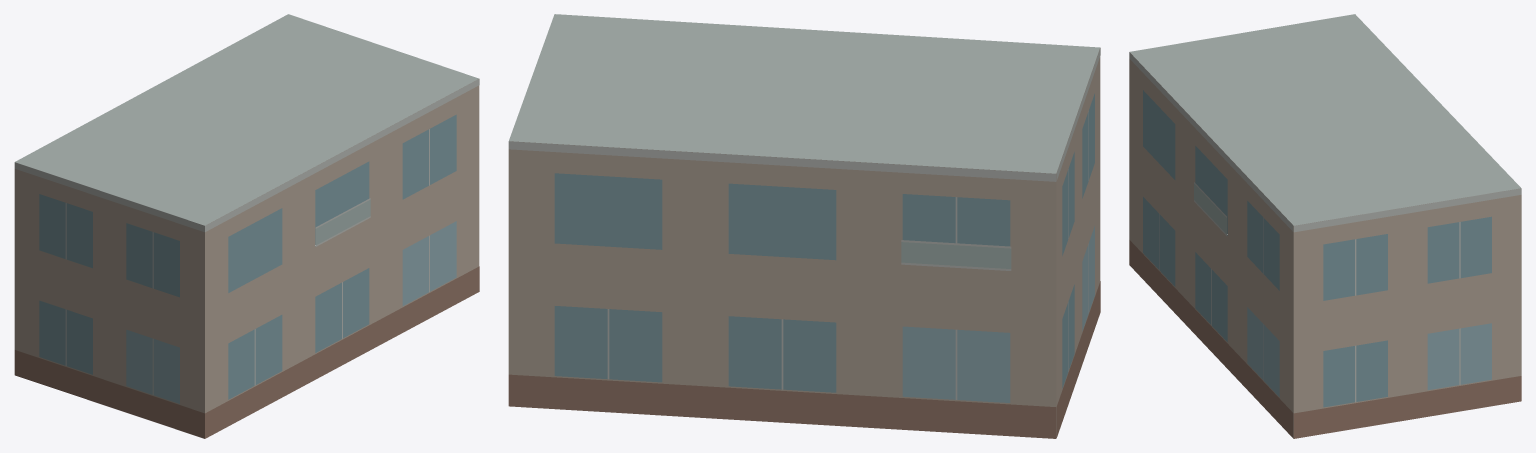
The model's file is survey-upis-32851306.glb.
The picture shows the model from 3 angles, left to right: view 1: azimuth 30°, elevation 25°; view 2: azimuth 150°, elevation 25°; view 3: azimuth 270°, elevation 25°; orthographic projection. The views are drawn at different scales.
Parts seen in each view (by area): view 1: survey-upis-32851306.tmp; view 2: survey-upis-32851306.tmp; view 3: survey-upis-32851306.tmp.
Boxes of the visible parts, x1,y1,x2,y2 form: survey-upis-32851306.tmp: (14, 14, 479, 438); survey-upis-32851306.tmp: (508, 14, 1100, 438); survey-upis-32851306.tmp: (1129, 14, 1521, 438).
Size of the model in its own units: 16.85 by 7.9 by 13.19.
